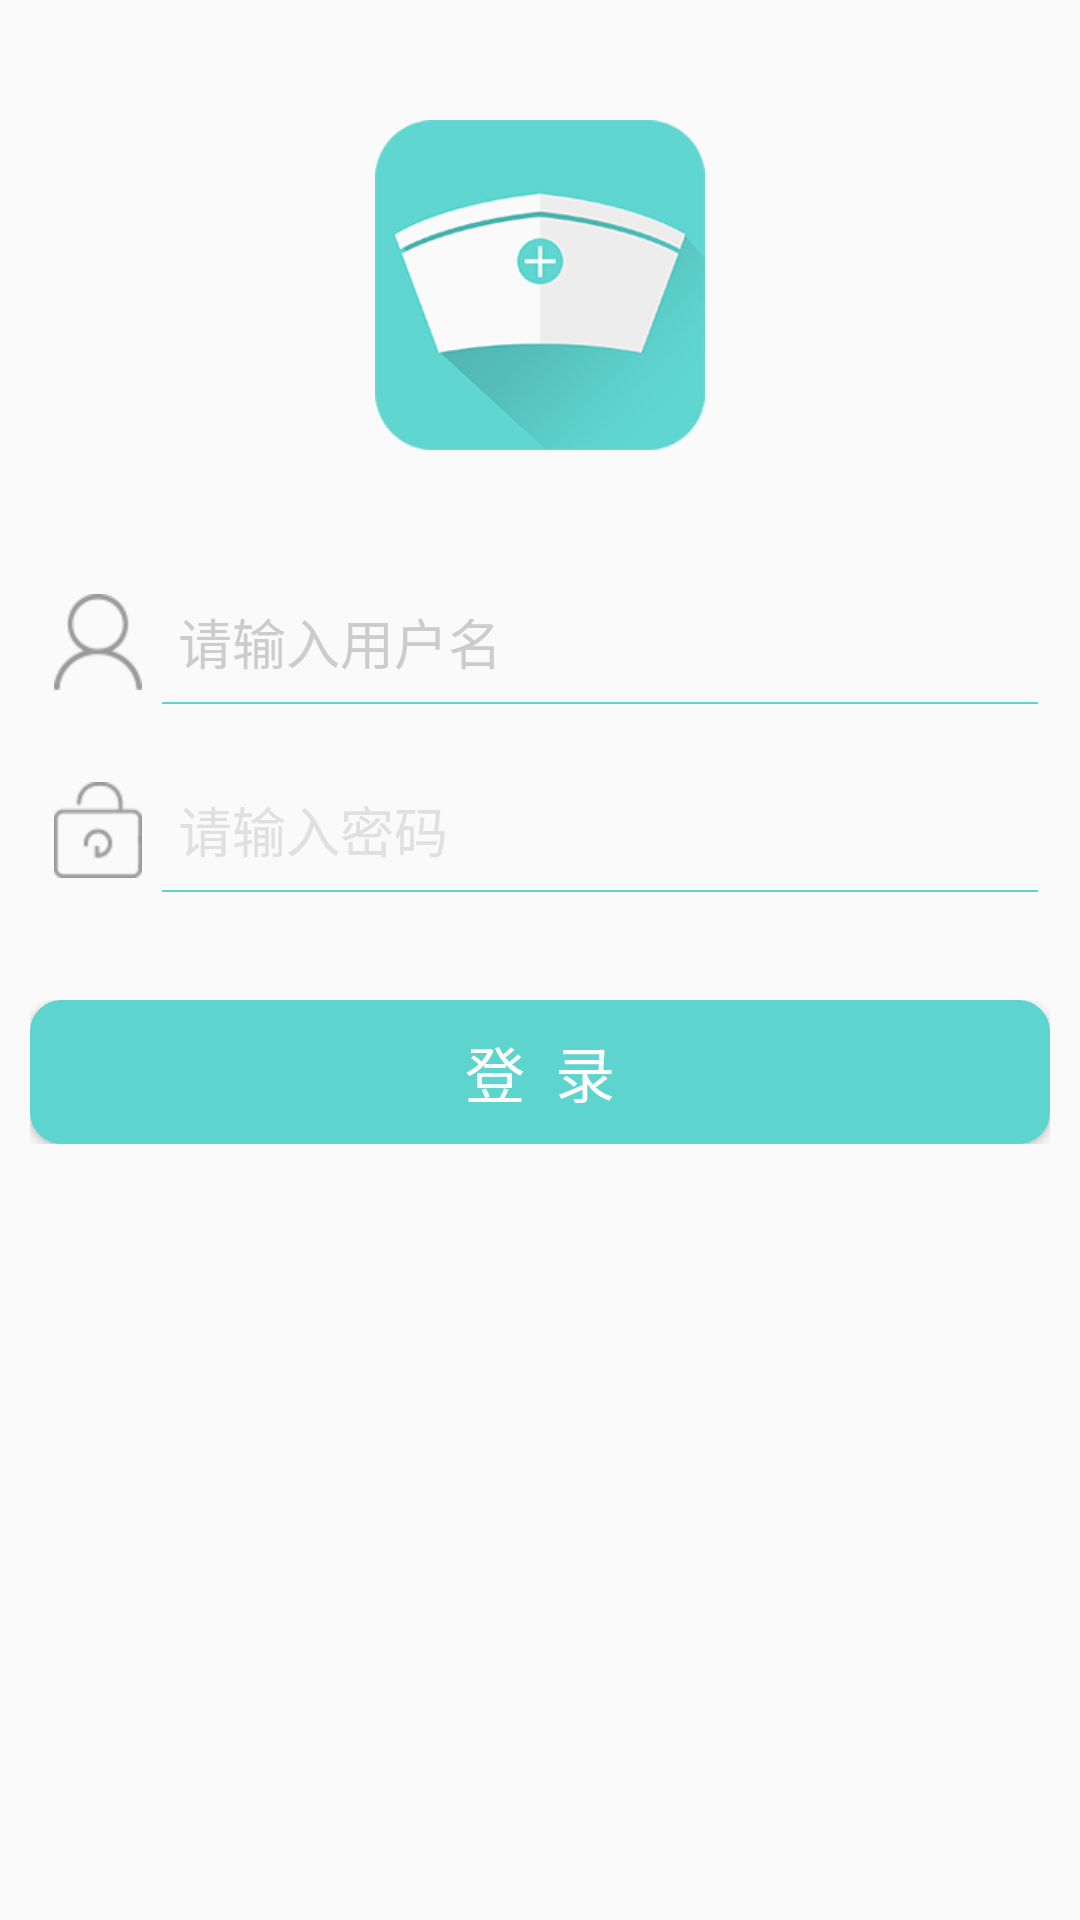

Where icons sit on this 1080×1920 app screen, as (x1, y1, x2, y2):
nursing station: (375, 120, 705, 450)
